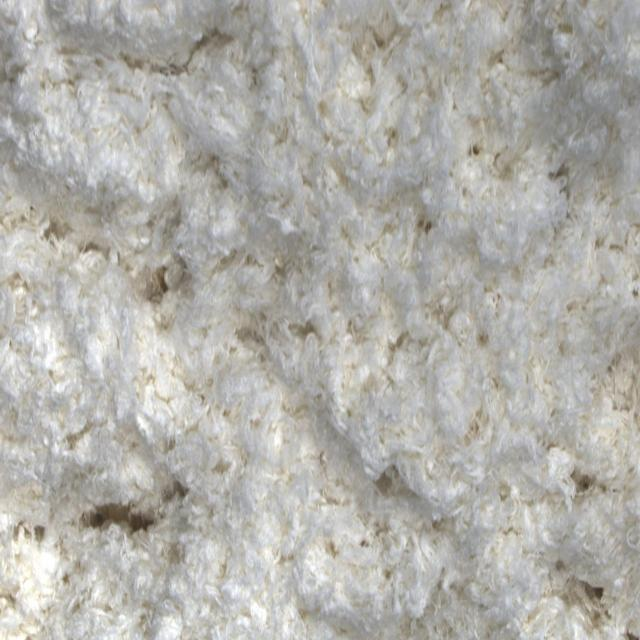dust: (93, 496, 154, 537)
